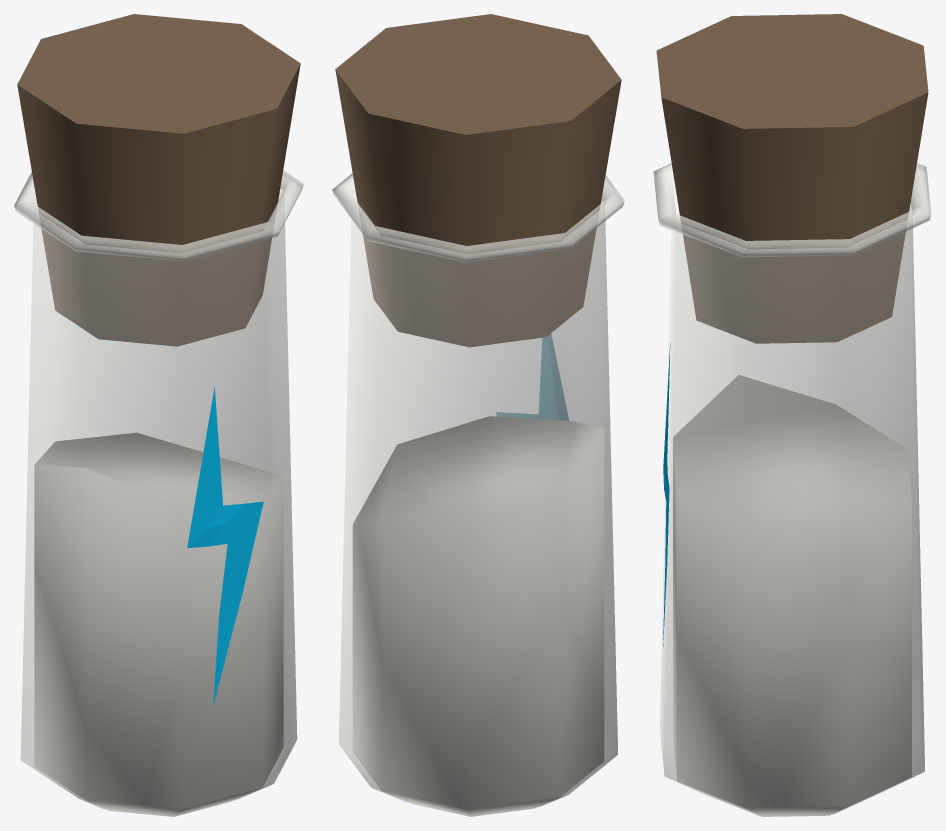
File: PowerUpFireRate.fbx
3 views of the same model, side by side, from view 1: azimuth 30°, elevation 25°; view 2: azimuth 150°, elevation 25°; view 3: azimuth 270°, elevation 25° (orthographic).
Visible parts, largest first — view 1: PowerUp; view 2: PowerUp; view 3: PowerUp.
Boxes of the visible parts, x1,y1,x2,y2 form: PowerUp: (14,14,303,816); PowerUp: (332,14,624,816); PowerUp: (653,14,931,816).
Bounding box in the file's own units: 126 × 358 × 126.
